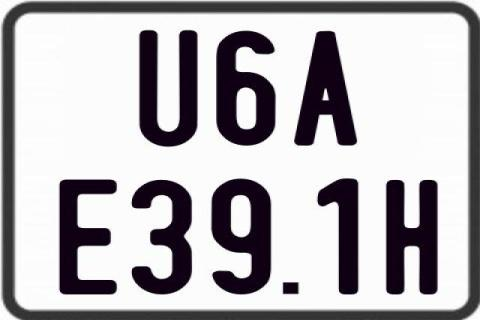0: (210, 176, 273, 297), (131, 178, 194, 298), (213, 29, 272, 147), (314, 178, 357, 296)
A: (291, 29, 360, 145)
E: (56, 179, 118, 295)
H: (384, 178, 440, 298)
U: (138, 28, 200, 146)
